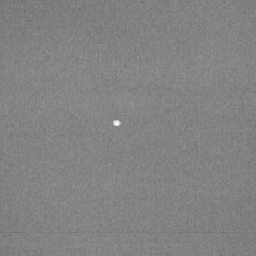Target: (111, 118, 122, 127)
